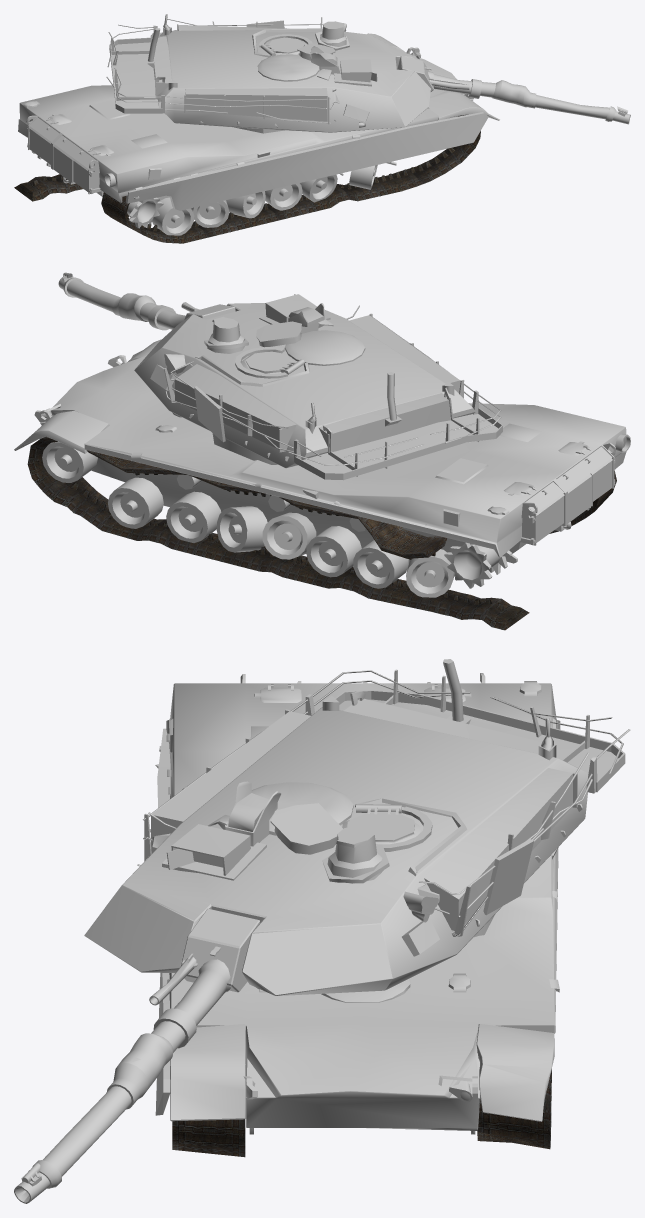
File: 破损tanks.FBX
3 views of the same model, one above another, from view 1: azimuth 30°, elevation 25°; view 2: azimuth 150°, elevation 25°; view 3: azimuth 270°, elevation 25° (orthographic). The views are drawn at different scales.
Visible parts, largest first — view 1: m1a2_damage01, m1a2_damage02; view 2: m1a2_damage01, m1a2_damage02; view 3: m1a2_damage02, m1a2_damage01.
Boxes of the visible parts, box(x1,y1,x2,y2) form: m1a2_damage01: box(14, 33, 499, 243); m1a2_damage02: box(106, 14, 630, 132); m1a2_damage01: box(14, 339, 630, 630); m1a2_damage02: box(58, 272, 502, 480); m1a2_damage02: box(14, 659, 630, 1203); m1a2_damage01: box(155, 673, 560, 1157).
Size of the model in its own units: 8617 by 2588 by 4874.
